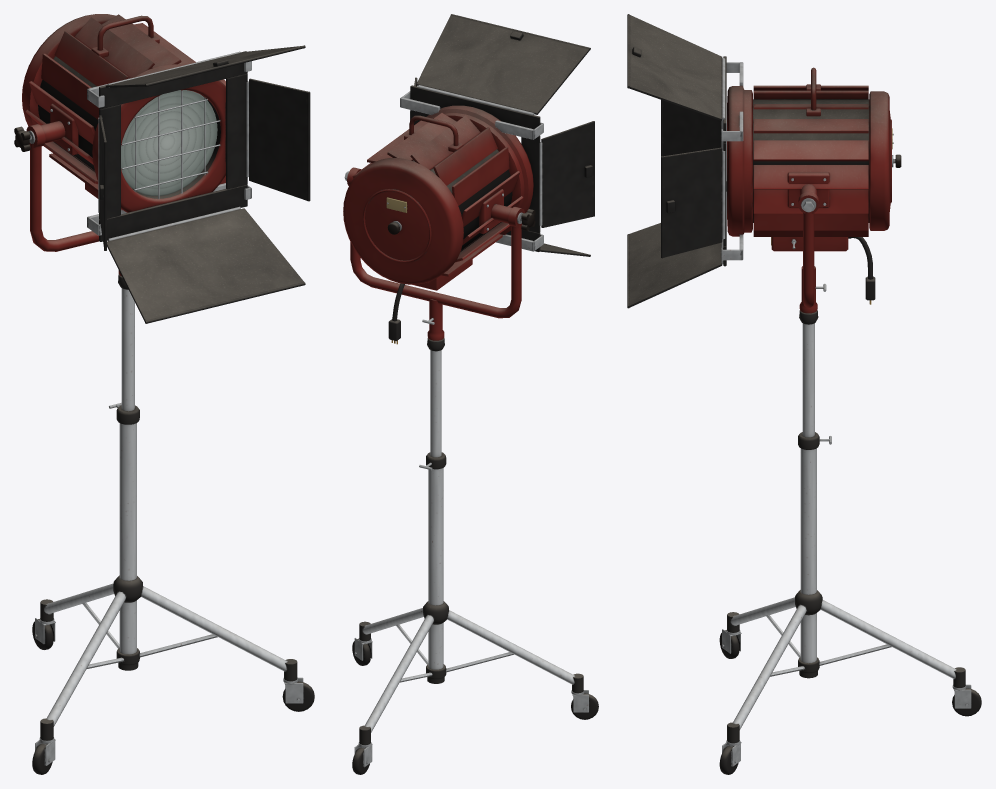
The model's file is Spotlight.fbx.
3 views of the same model, side by side, from view 1: azimuth 30°, elevation 25°; view 2: azimuth 150°, elevation 25°; view 3: azimuth 270°, elevation 25° (orthographic). The views are drawn at different scales.
Parts seen in each view (by area): view 1: Spotlight_Can, Spotlight_Stand, Spotlight_DoorBottom, Spotlight_Lens, Spotlight_DoorRight, Spotlight_Yoke, Spotlight_DoorTop, Spotlight_DoorLeft; view 2: Spotlight_Can, Spotlight_Stand, Spotlight_DoorTop, Spotlight_DoorLeft, Spotlight_Yoke; view 3: Spotlight_Can, Spotlight_Stand, Spotlight_DoorTop, Spotlight_DoorRight, Spotlight_DoorBottom, Spotlight_DoorLeft, Spotlight_Yoke.
Part boxes in pixels (<box>): Spotlight_Can: <box>22,14,251,241</box>; Spotlight_Stand: <box>32,274,314,774</box>; Spotlight_DoorBottom: <box>107,206,305,323</box>; Spotlight_Lens: <box>121,90,217,195</box>; Spotlight_DoorRight: <box>246,78,310,201</box>; Spotlight_Yoke: <box>26,79,225,276</box>; Spotlight_DoorTop: <box>105,45,305,87</box>; Spotlight_DoorLeft: <box>98,115,106,250</box>; Spotlight_Can: <box>343,85,543,344</box>; Spotlight_Stand: <box>352,338,598,774</box>; Spotlight_DoorTop: <box>416,14,590,115</box>; Spotlight_DoorLeft: <box>539,121,594,227</box>; Spotlight_Yoke: <box>344,167,524,340</box>; Spotlight_Can: <box>721,56,901,304</box>; Spotlight_Stand: <box>719,310,981,774</box>; Spotlight_DoorTop: <box>627,14,725,120</box>; Spotlight_DoorRight: <box>661,147,725,258</box>; Spotlight_DoorBottom: <box>627,223,723,308</box>; Spotlight_DoorLeft: <box>661,100,723,156</box>; Spotlight_Yoke: <box>798,191,826,313</box>.
Bounding box in the file's own units: 2.44 × 5.95 × 2.87.
Materials: 1 (1 with a texture image).
